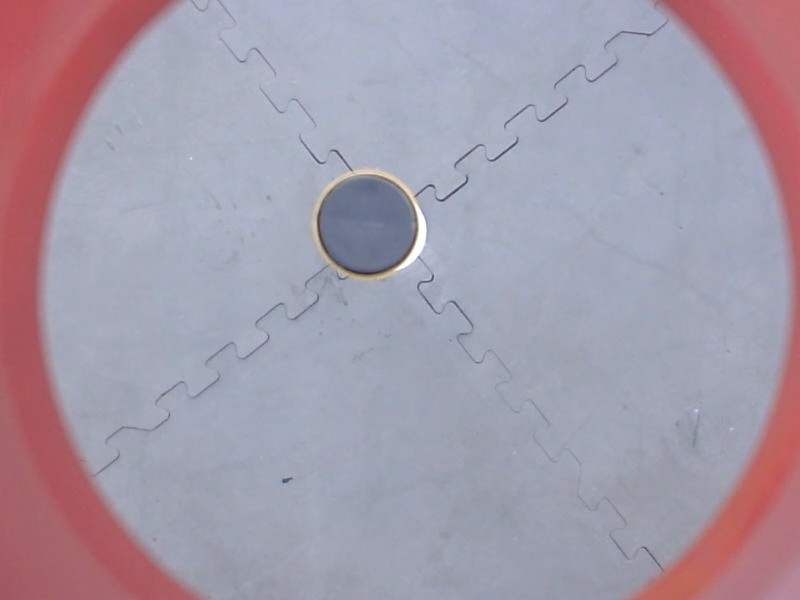tip: (305, 166, 429, 286)
